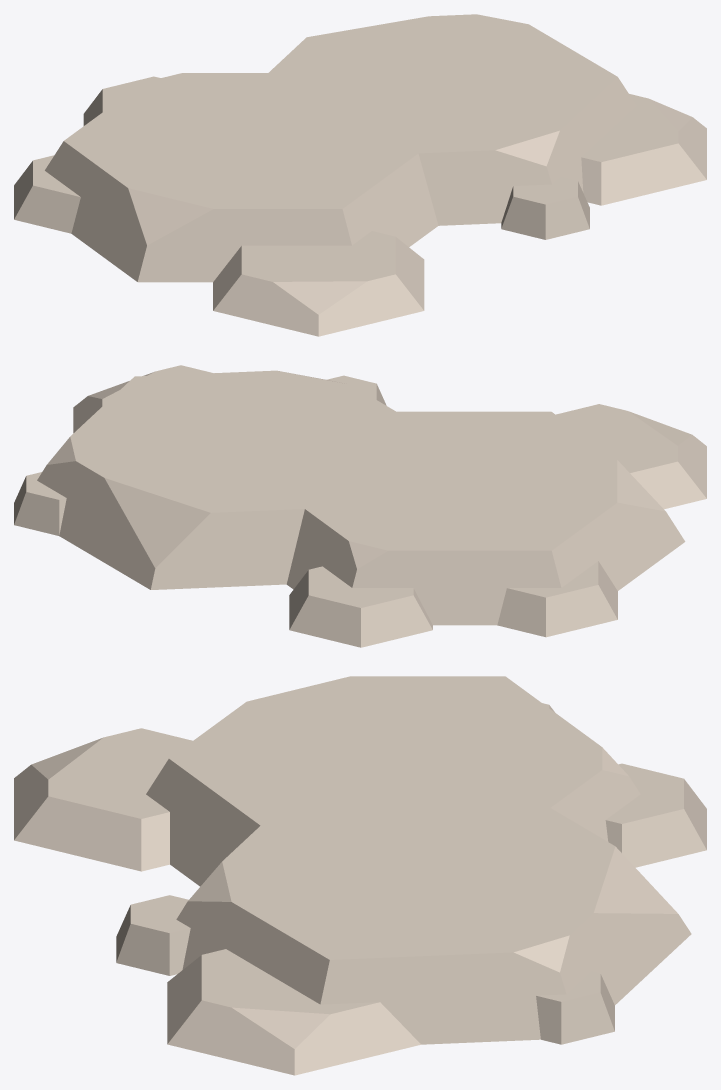
The model's file is platform_beach.glb.
3 views of the same model, one above another, from view 1: azimuth 30°, elevation 25°; view 2: azimuth 150°, elevation 25°; view 3: azimuth 270°, elevation 25° (orthographic). The views are drawn at different scales.
Parts seen in each view (by area): view 1: platform_beach; view 2: platform_beach; view 3: platform_beach.
Part boxes in pixels (<box>): platform_beach: <box>14,14,706,336</box>; platform_beach: <box>14,365,706,647</box>; platform_beach: <box>14,676,706,1075</box>.
Size of the model in its own units: 0.8932 by 0.0825 by 0.7239.
